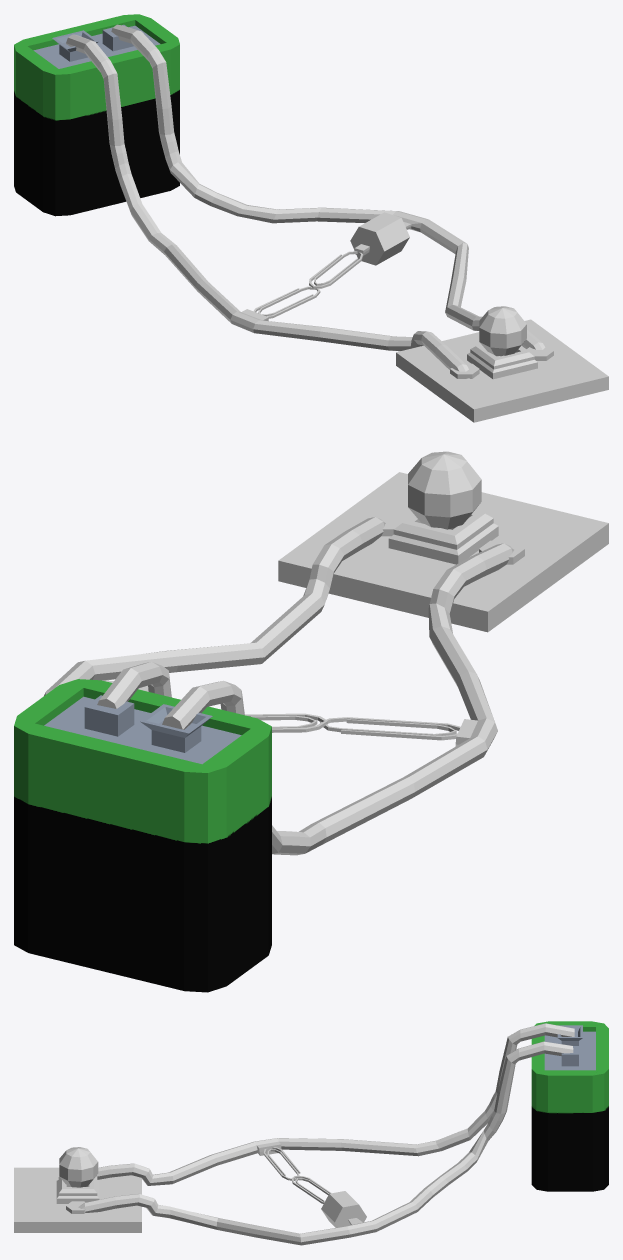
3 renders of one model, top to bottom at view 1: azimuth 30°, elevation 25°; view 2: azimuth 150°, elevation 25°; view 3: azimuth 270°, elevation 25°, orthographic. The views are drawn at different scales.
Visible parts, largest first — view 1: Battery, Cube, Cylinder, Cylinder.001, Cylinder.004, Sphere, Sundetiras.001, Sundetiras; view 2: Battery, Cube, Cylinder, Cylinder.001, Sphere, Sundetiras.001, Sundetiras; view 3: Battery, Cylinder.001, Cube, Cylinder, Sphere, Cylinder.004, Sundetiras.001, Sundetiras.
Boxes of the visible parts, left/top/right/bottom form: Battery: left=14, top=14, right=179, bottom=216; Cube: left=396, top=319, right=608, bottom=422; Cylinder: left=66, top=34, right=469, bottom=379; Cylinder.001: left=111, top=24, right=545, bottom=349; Cylinder.004: left=350, top=212, right=409, bottom=265; Sphere: left=479, top=306, right=526, bottom=356; Sundetiras.001: left=253, top=286, right=320, bottom=318; Sundetiras: left=309, top=251, right=363, bottom=288; Battery: left=14, top=679, right=271, bottom=992; Cube: left=278, top=472, right=608, bottom=632; Cylinder: left=162, top=543, right=513, bottom=855; Cylinder.001: left=44, top=517, right=385, bottom=708; Sphere: left=408, top=451, right=481, bottom=529; Sundetiras.001: left=320, top=717, right=460, bottom=740; Sundetiras: left=245, top=713, right=327, bottom=732; Battery: left=531, top=1021, right=608, bottom=1191; Cylinder.001: left=78, top=1041, right=573, bottom=1245; Cube: left=14, top=1167, right=141, bottom=1232; Cylinder: left=96, top=1023, right=574, bottom=1185; Sphere: left=59, top=1147, right=98, bottom=1187; Cylinder.004: left=321, top=1191, right=366, bottom=1227; Sundetiras.001: left=263, top=1147, right=300, bottom=1180; Sundetiras: left=291, top=1176, right=331, bottom=1203.
Size of the model in its own units: 408 by 243 by 929.
